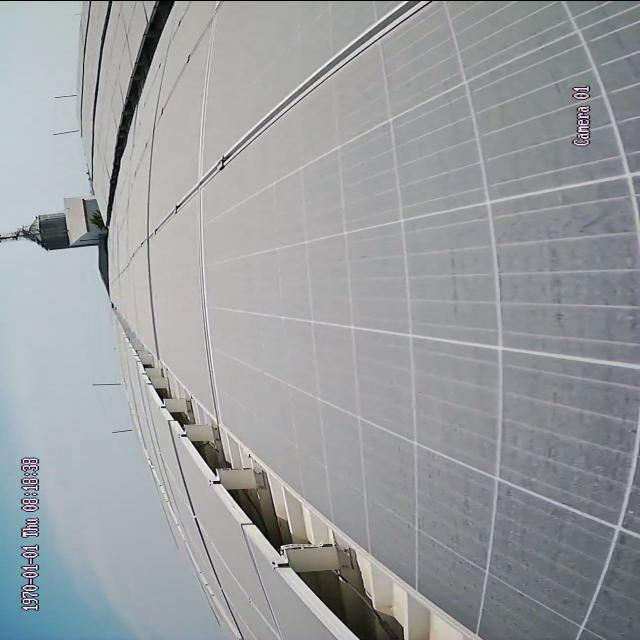outher panel: (132, 348, 481, 640)
